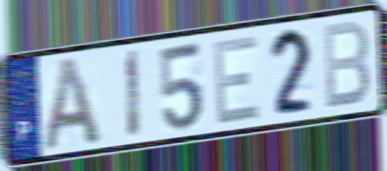2: (267, 24, 319, 122)
5: (157, 38, 207, 135)
A: (41, 53, 105, 154)
B: (320, 18, 372, 113)
E: (211, 31, 263, 128)
I: (125, 46, 143, 142)
